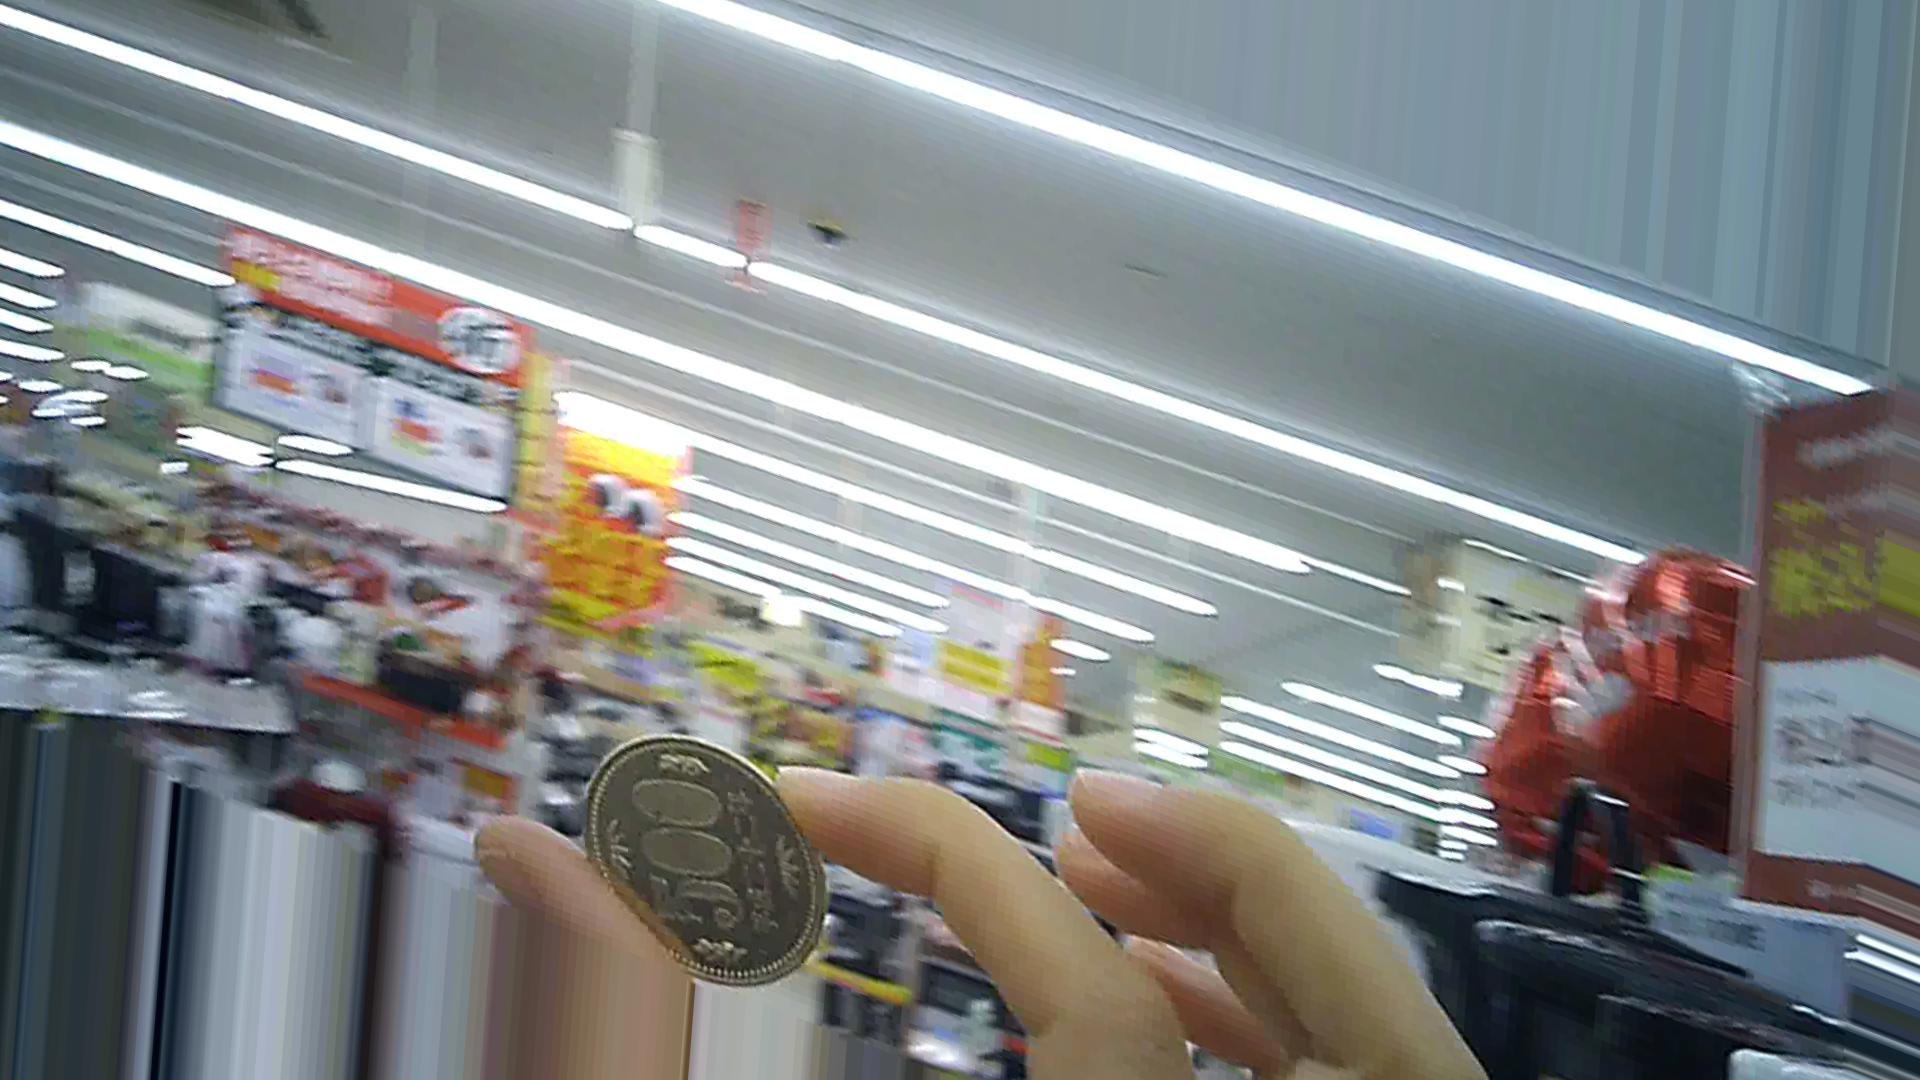500 Yen: (582, 724, 837, 1015)
